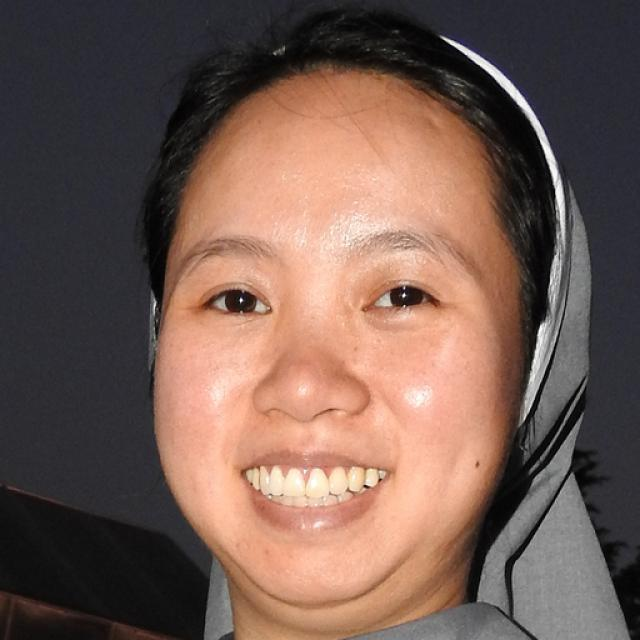happy: (146, 84, 526, 608)
